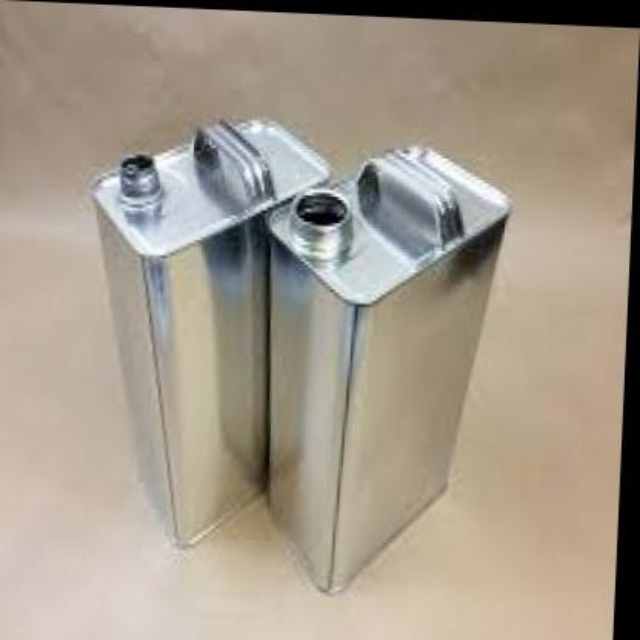trash: (269, 148, 511, 591), (92, 122, 328, 543)
